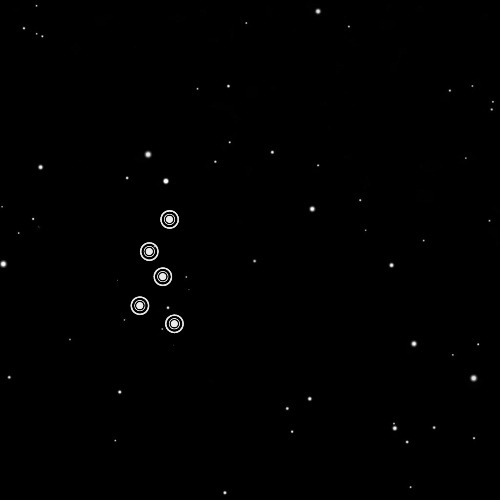cassiopeia: (121, 202, 195, 346)
